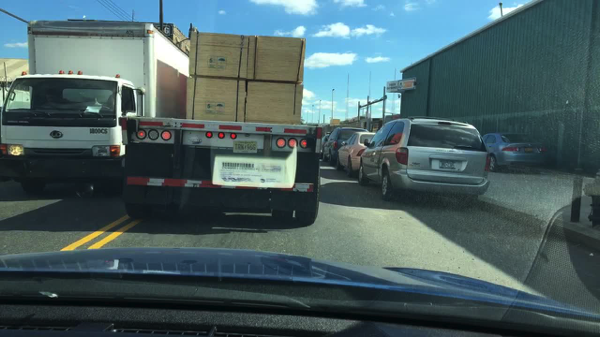car: (356, 115, 491, 210), (480, 132, 547, 173), (321, 126, 370, 168), (334, 132, 376, 180), (320, 131, 331, 159)
traffic sign: (391, 114, 400, 120)
truck: (117, 21, 324, 229), (0, 19, 188, 200)
